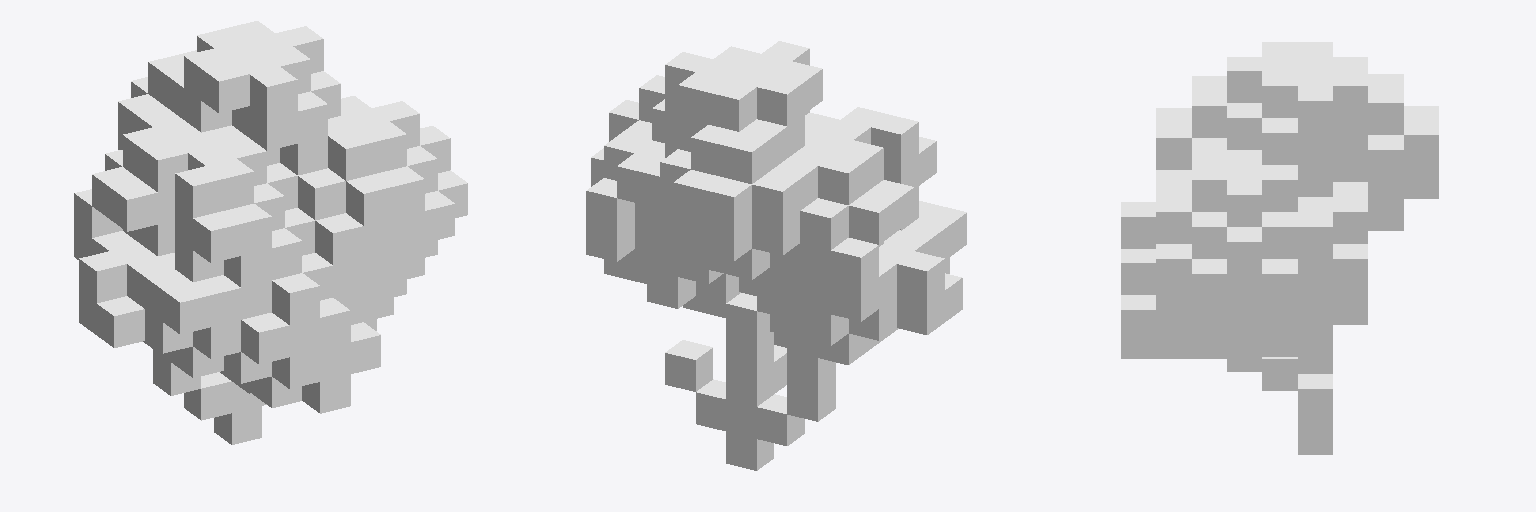
Rendered from flower-8.obj.
3 views of the same model, side by side, from view 1: azimuth 30°, elevation 25°; view 2: azimuth 150°, elevation 25°; view 3: azimuth 270°, elevation 25° (orthographic).
Parts seen in each view (by area): view 1: object 1; view 2: object 1; view 3: object 1.
Boxes of the visible parts, x1,y1,x2,y2 form: object 1: [74, 21, 467, 444]; object 1: [586, 41, 966, 470]; object 1: [1121, 42, 1438, 454].
Size of the model in its own units: 1.1 by 1.2 by 0.9.